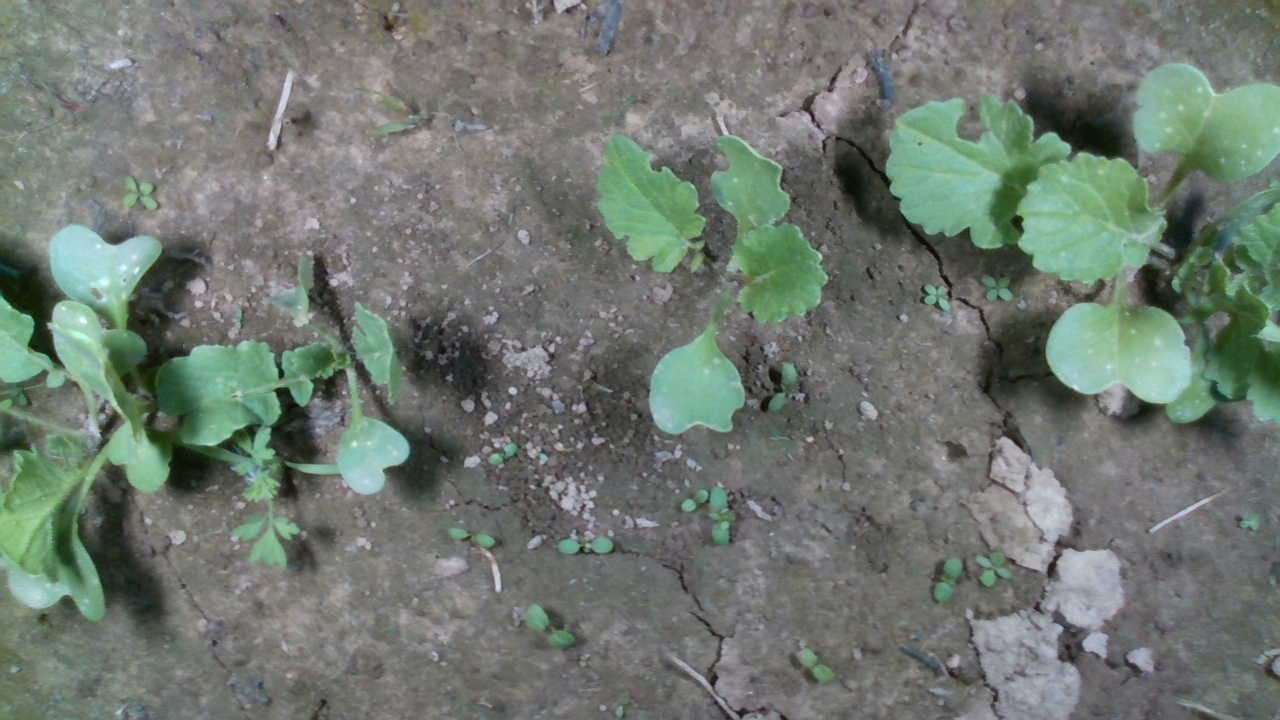weed: (521, 602, 578, 651), (765, 360, 800, 414), (709, 484, 737, 549), (794, 647, 837, 687), (973, 549, 1015, 589), (120, 172, 158, 210), (933, 557, 964, 603), (446, 524, 497, 549), (555, 535, 616, 555), (979, 272, 1015, 302), (921, 282, 952, 313), (679, 486, 709, 513), (487, 443, 517, 467)
